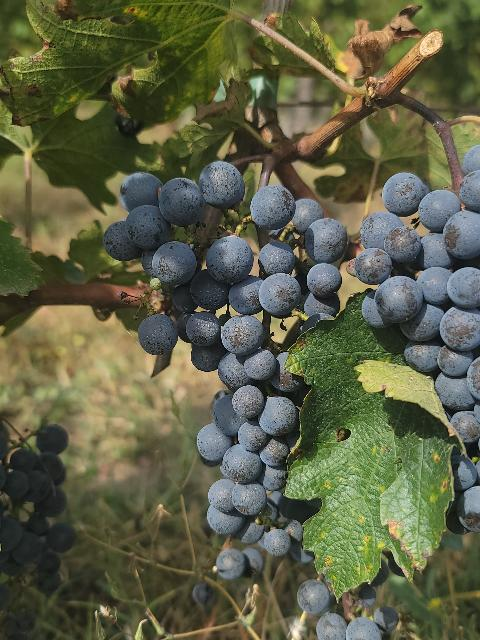grapes: (102, 160, 322, 555), (361, 145, 480, 450)
